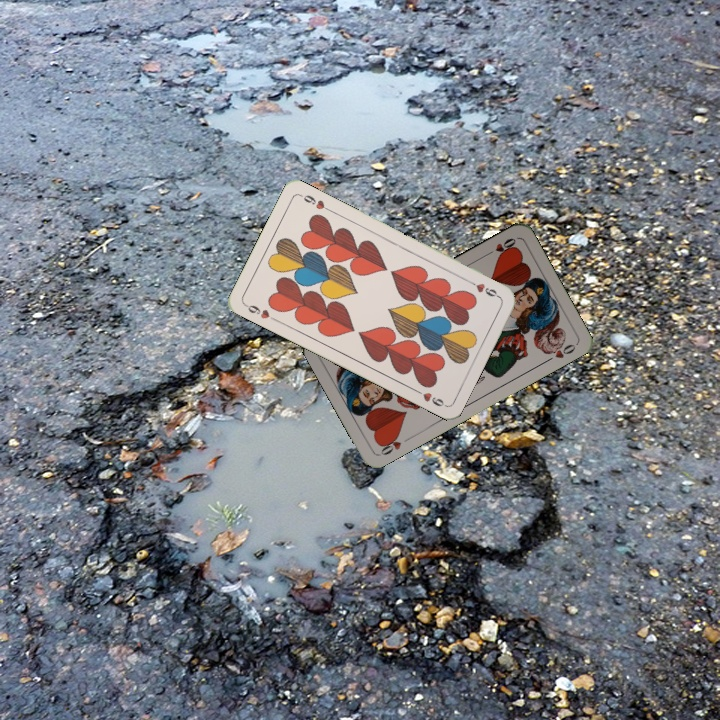H9: (241, 300, 279, 324), (464, 276, 502, 300)
HO: (375, 430, 414, 458), (481, 234, 519, 259)
